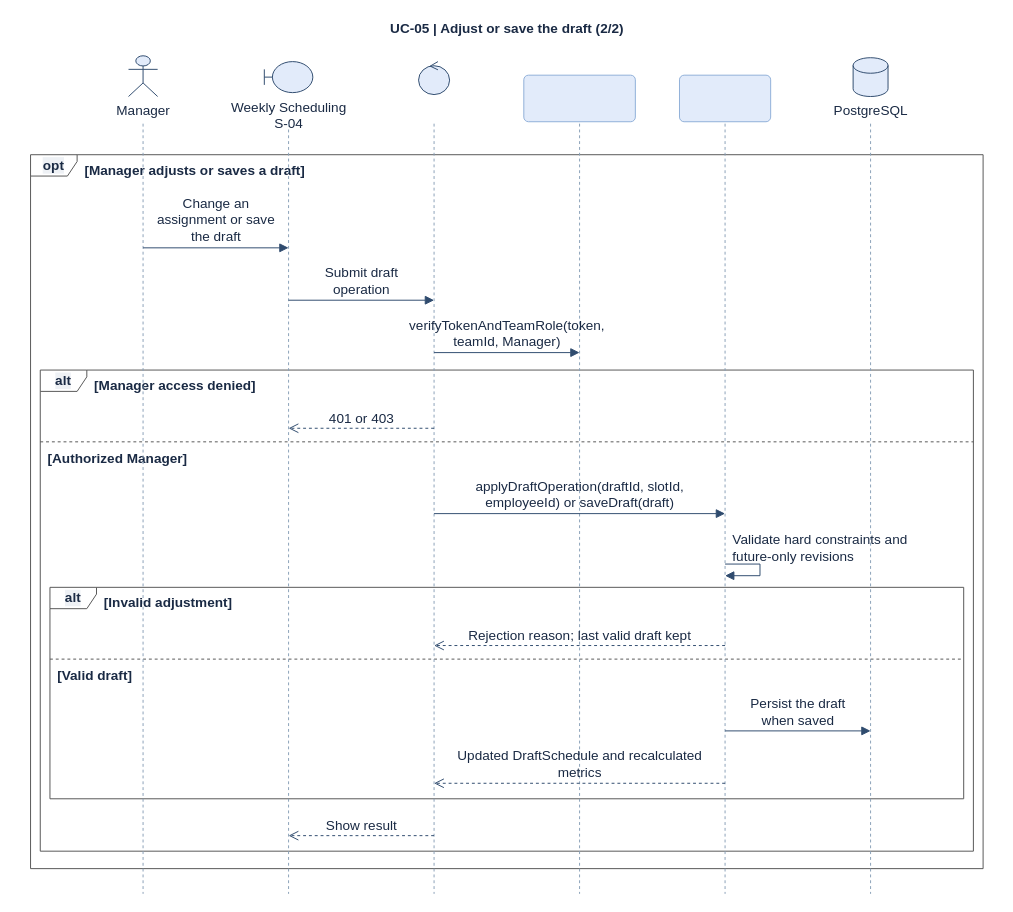
Image size: 1013x912. Some labels were removed from this diagram. Here are the shapes that lost their labels. From the top down, the centre of each, then its label:
the point at 434,78: Express API
the point at 579,98: :IdentityAccess Service
the point at 725,98: :Scheduling Service
